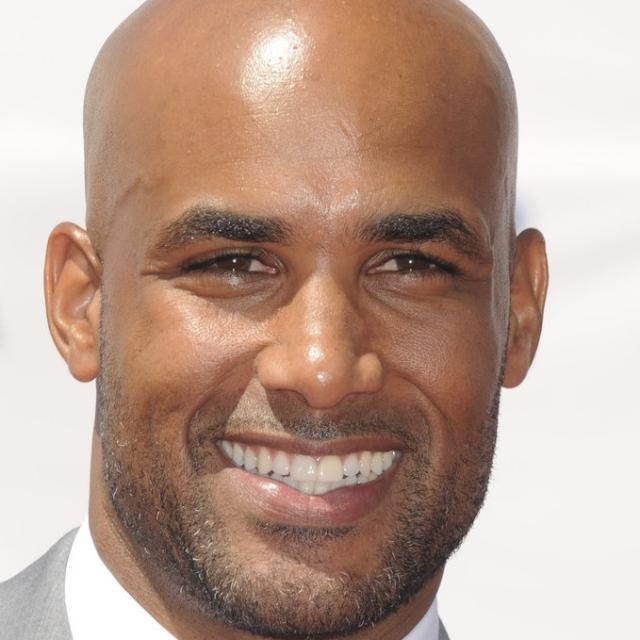Normal: (84, 0, 516, 639)
